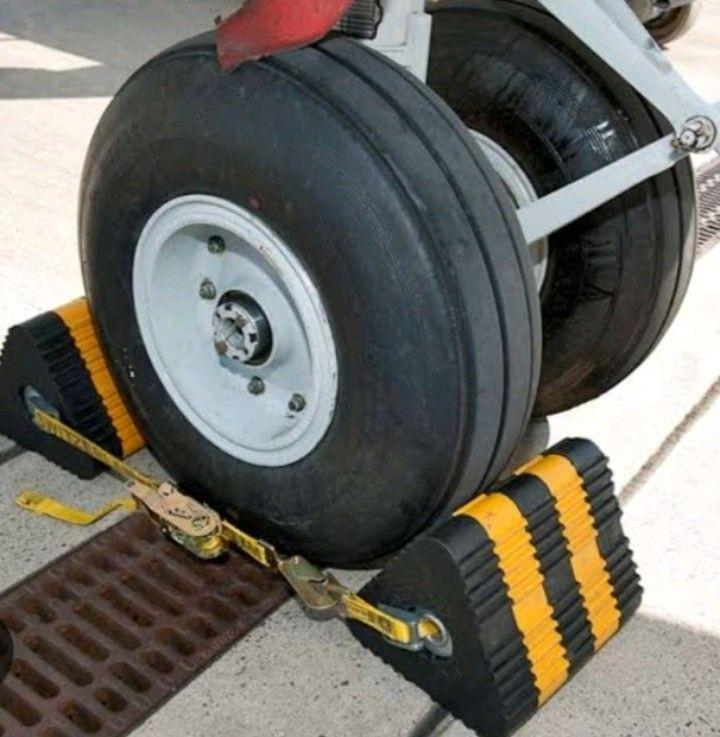chock: (342, 437, 646, 737), (0, 292, 181, 482)
wheel: (74, 26, 532, 557), (429, 6, 687, 408)
